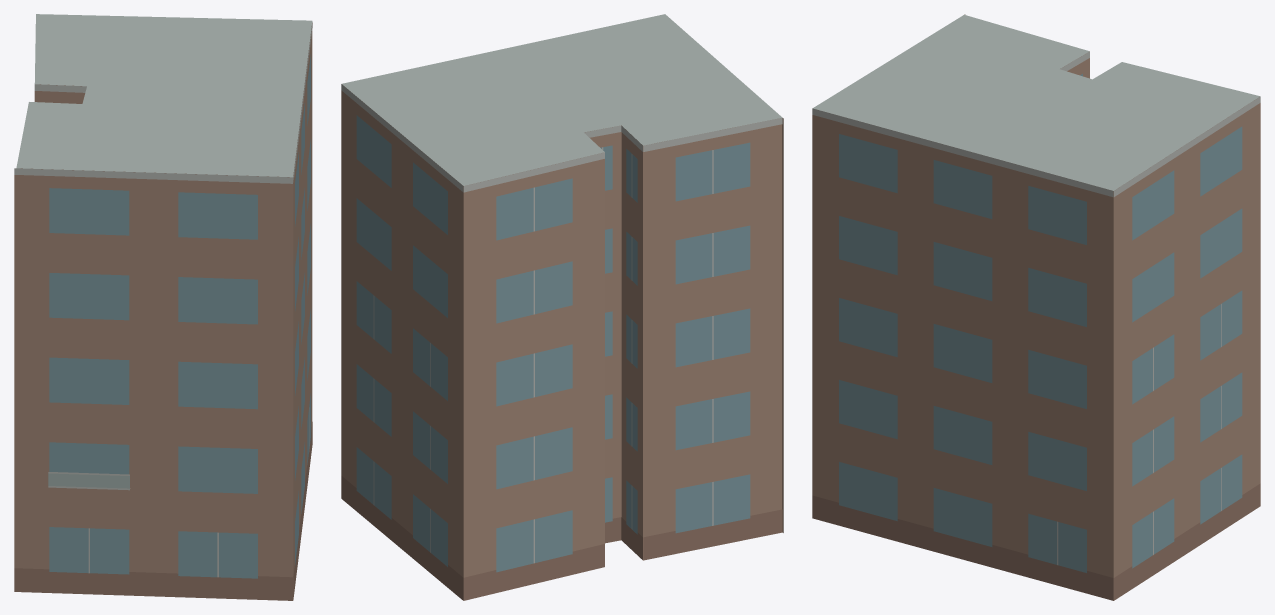
The model's file is survey-upis-33024204.glb.
The picture shows the model from 3 angles, left to right: view 1: azimuth 30°, elevation 25°; view 2: azimuth 150°, elevation 25°; view 3: azimuth 270°, elevation 25°; orthographic projection. The views are drawn at different scales.
Visible parts, largest first — view 1: survey-upis-33024204.tmp; view 2: survey-upis-33024204.tmp; view 3: survey-upis-33024204.tmp.
Part boxes in pixels (x1,y1,x2,y2): survey-upis-33024204.tmp: (14, 14, 312, 600); survey-upis-33024204.tmp: (341, 14, 783, 600); survey-upis-33024204.tmp: (812, 14, 1260, 600).
Size of the model in its own units: 14.36 by 15.5 by 15.36.
